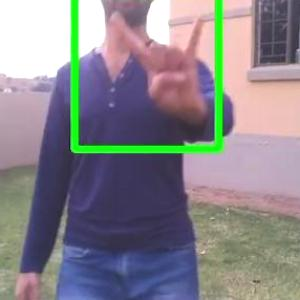takeoff-hand: (110, 7, 213, 124)
